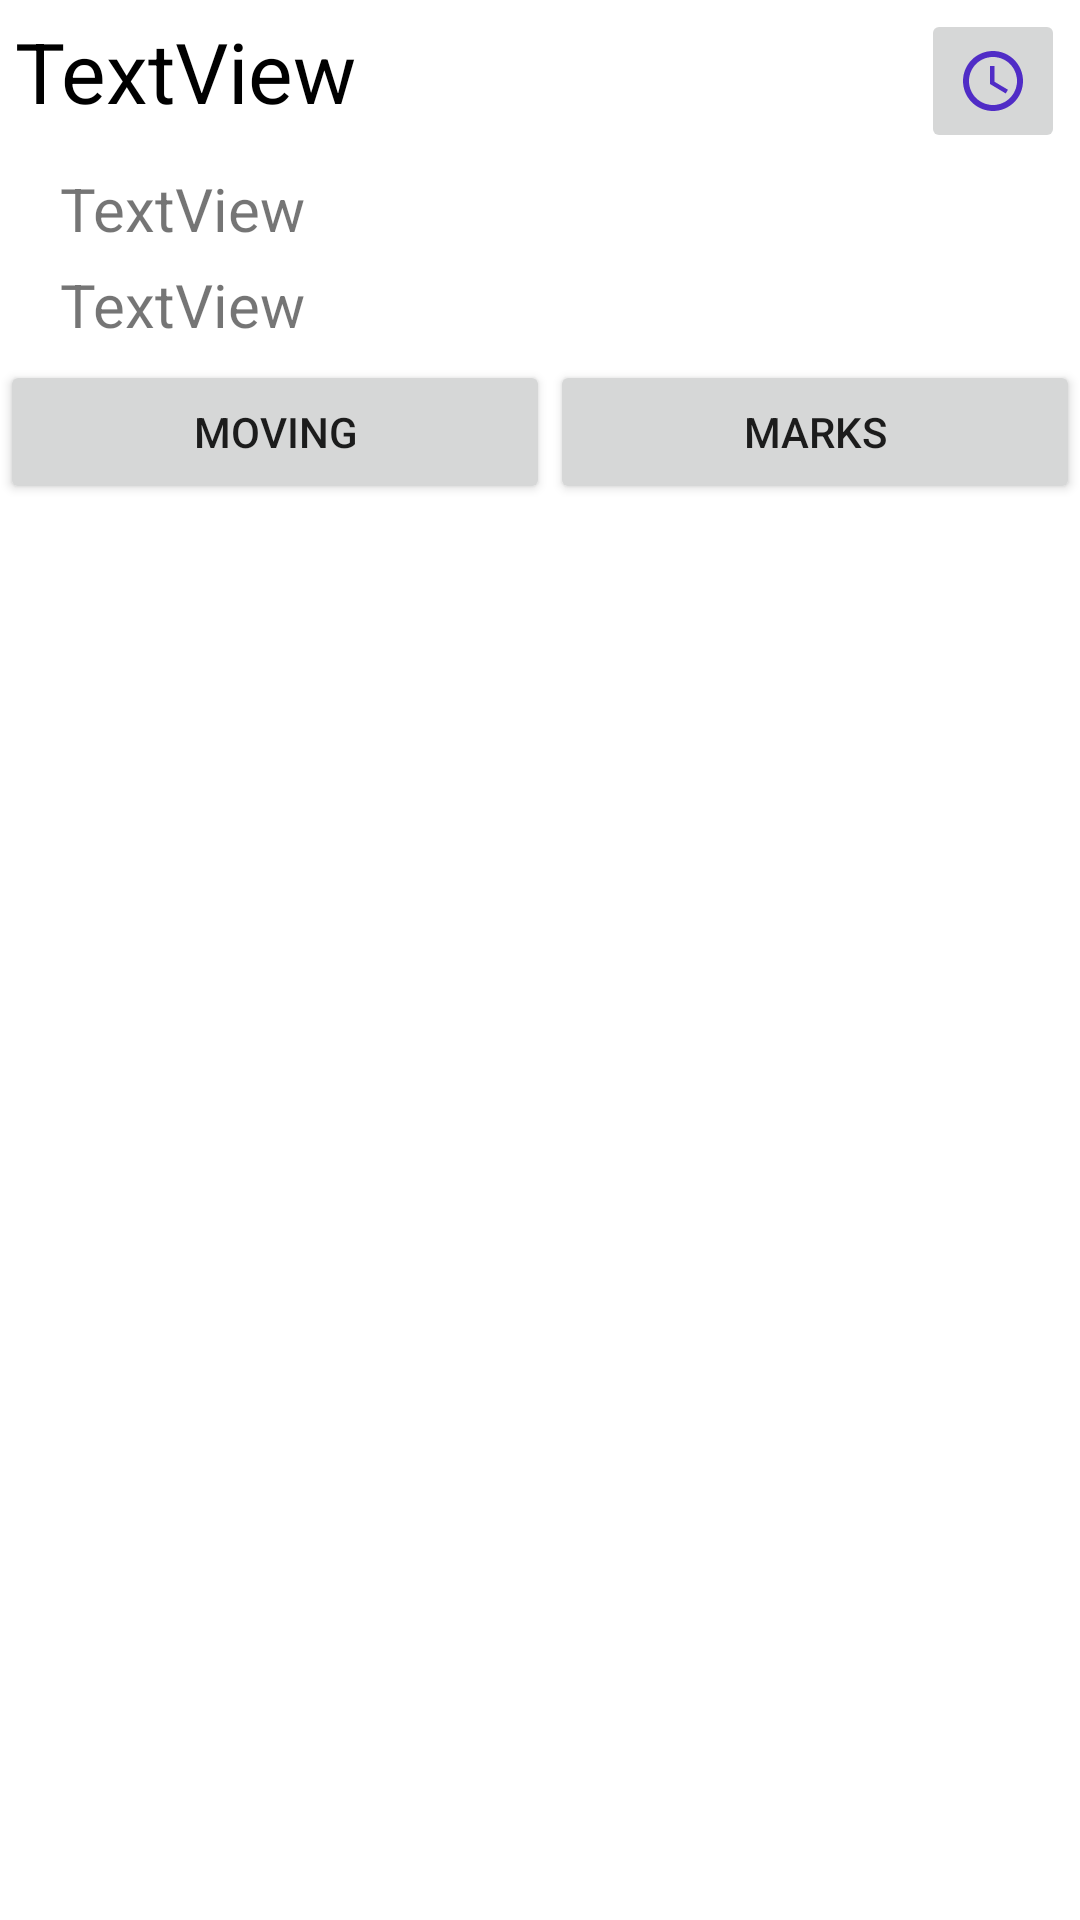

Icons on this 1080px x 1920px Android screen, each with the point to tap as (x=x, y=y):
access time: (x=993, y=81)
